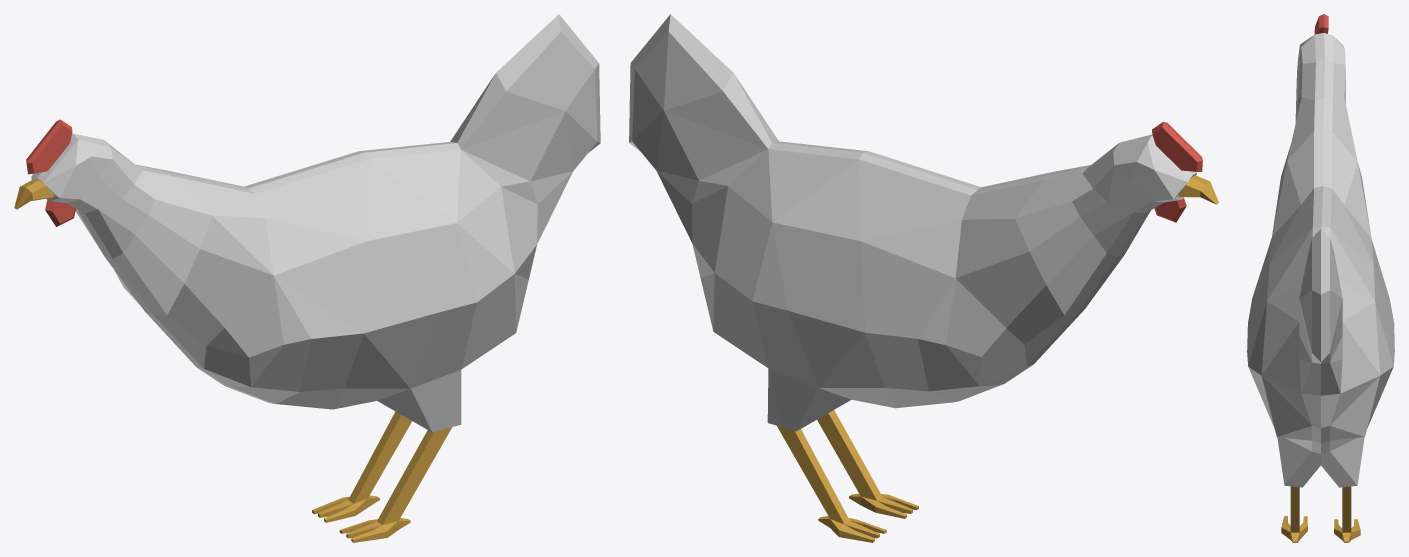
The model's file is hen_10.fbx.
3 renders of one model, left to right at view 1: azimuth 30°, elevation 25°; view 2: azimuth 150°, elevation 25°; view 3: azimuth 270°, elevation 25°, orthographic. The views are drawn at different scales.
Visible parts, largest first — view 1: Body, Feet, Top; view 2: Body, Feet, Top; view 3: Body, Feet, Top.
Boxes of the visible parts, <box> form: Body: <box>31,14,600,432</box>; Feet: <box>312,411,452,542</box>; Top: <box>26,119,72,174</box>; Body: <box>629,14,1196,431</box>; Feet: <box>777,410,918,542</box>; Top: <box>1152,122,1202,171</box>; Body: <box>1247,33,1394,487</box>; Feet: <box>1281,486,1360,542</box>; Top: <box>1314,14,1328,34</box>.
Bounding box in the file's own units: 0.7017 × 2.08 × 2.7.
